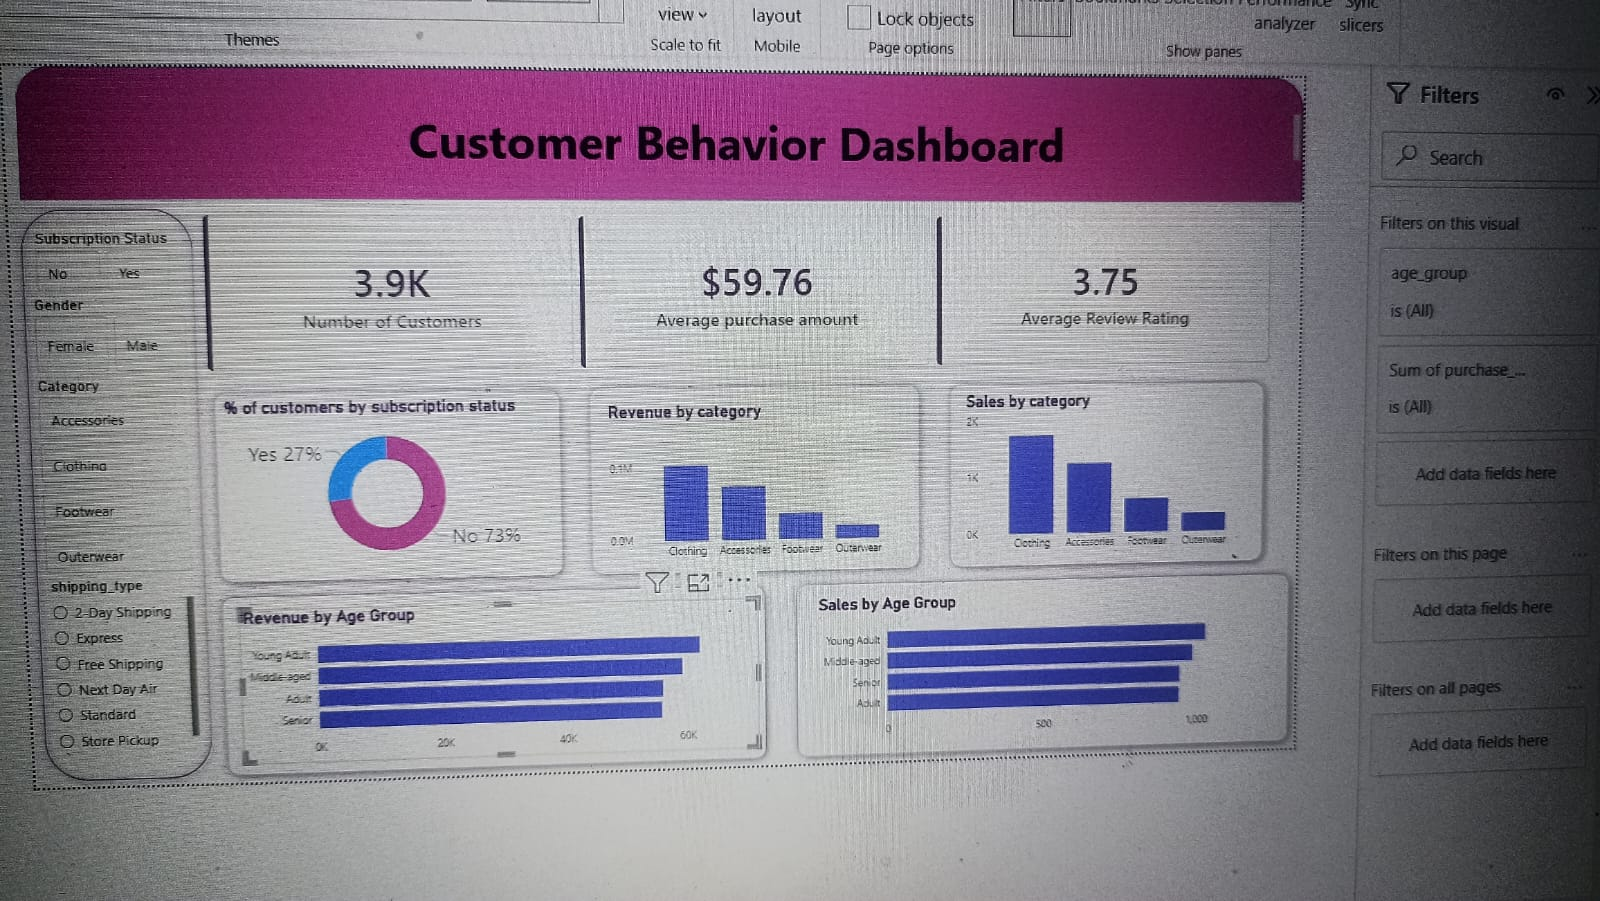

The dashboard page shown, as its layout file describes it:
{"tool":"powerbi","page":{"name":"Page 1","canvas":[1500,820],"ordinal":0},"visuals":[{"type":"cardVisual","fields":{"Data":["public customer.Number of Customers","public customer.Average purchase amount","public customer.Average Review Rating"]},"box":[195.6,148.3,1284.2,209.8],"z":0},{"type":"shape","box":[14.2,0,1486.1,148.3],"z":1000},{"type":"textbox","box":[157.8,37.9,1342.6,72.6],"z":2000},{"type":"shape","box":[209.8,358.1,405.4,235.1],"z":3000},{"type":"donutChart","title":"% of customers by  subscription status","fields":{"Y":["Count(public customer.customer_id)"],"Category":["public customer.subscription_status"]},"box":[224,372.3,367.6,203.5],"z":4000},{"type":"shape","box":[634.2,356.5,405.4,236.6],"z":5000},{"type":"shape","box":[1060.2,356.5,405.4,236.6],"z":6000},{"type":"clusteredColumnChart","title":"Revenue by category","fields":{"Y":["Sum(public customer.purchase_amount)"],"Category":["public customer.category"]},"box":[657.9,381.8,358.1,194],"z":7000},{"type":"clusteredColumnChart","title":"Sales by category","fields":{"Y":["CountNonNull(public customer.customer_id)"],"Category":["public customer.category"]},"box":[1082.3,373.9,362.9,201.9],"z":8000},{"type":"shape","box":[3.2,148.3,206.7,672.1],"z":9000},{"type":"advancedSlicerVisual","fields":{"Values":["public customer.subscription_status"]},"box":[22.1,179.8,159.3,74.1],"z":10000},{"type":"advancedSlicerVisual","fields":{"Values":["public customer.gender"]},"box":[18.9,254,176.7,91.5],"z":11000},{"type":"advancedSlicerVisual","fields":{"Values":["public customer.category"]},"box":[18.9,345.5,173.5,230.3],"z":12000},{"type":"listSlicer","fields":{"Values":["public customer.shipping_type"]},"box":[22.1,575.8,170.4,205.1],"z":13000},{"type":"clusteredBarChart","title":"Revenue by Age Group","fields":{"Y":["Sum(public customer.purchase_amount)"],"Category":["public customer.age_group"]},"box":[228.8,615.3,605.8,183],"z":14000},{"type":"shape","box":[209.8,593.2,642.1,225.6],"z":14001},{"type":"shape","box":[851.9,594.8,627.9,225.6],"z":14002},{"type":"clusteredBarChart","title":"Sales by Age Group","fields":{"Y":["CountNonNull(public customer.customer_id)"],"Category":["public customer.age_group"]},"box":[877.2,615.3,567.9,183],"z":14003}]}

Visuals, with their boxes on the page's 1500x820 design canvas (x1, y1, x2, y2). These are canvas units, not pixel positions in the 1600x901 screenshot, which may show the page scaled, cropped or inside an application window:
cardVisual - public customer.Number of Customers x public customer.Average purchase amount: 196/148/1480/358
shape: 14/0/1500/148
textbox: 158/38/1500/110
shape: 210/358/615/593
"% of customers by  subscription status" donutChart: 224/372/592/576
shape: 634/356/1040/593
shape: 1060/356/1466/593
"Revenue by category" clusteredColumnChart: 658/382/1016/576
"Sales by category" clusteredColumnChart: 1082/374/1445/576
shape: 3/148/210/820
advancedSlicerVisual - public customer.subscription_status: 22/180/181/254
advancedSlicerVisual - public customer.gender: 19/254/196/346
advancedSlicerVisual - public customer.category: 19/346/192/576
listSlicer - public customer.shipping_type: 22/576/192/781
"Revenue by Age Group" clusteredBarChart: 229/615/835/798
shape: 210/593/852/819
shape: 852/595/1480/820
"Sales by Age Group" clusteredBarChart: 877/615/1445/798
